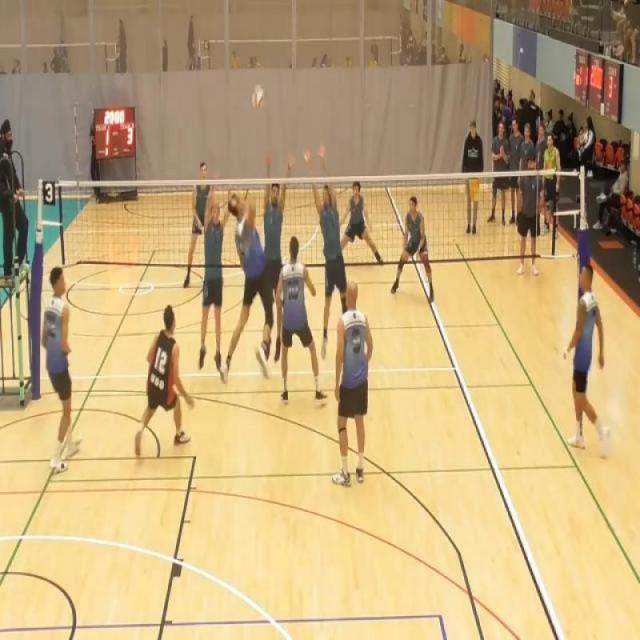volleyball: (251, 83, 266, 110)
